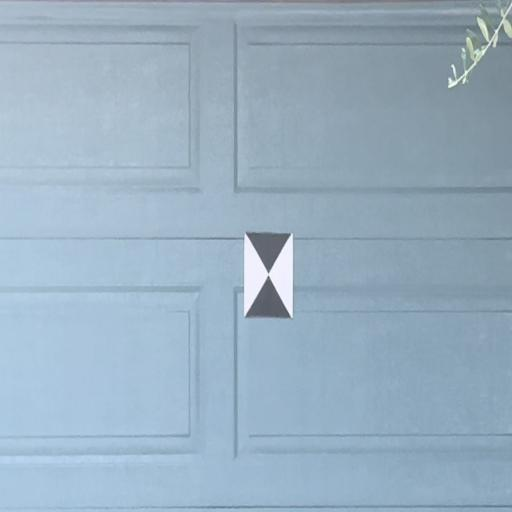target: (245, 232, 293, 316)
